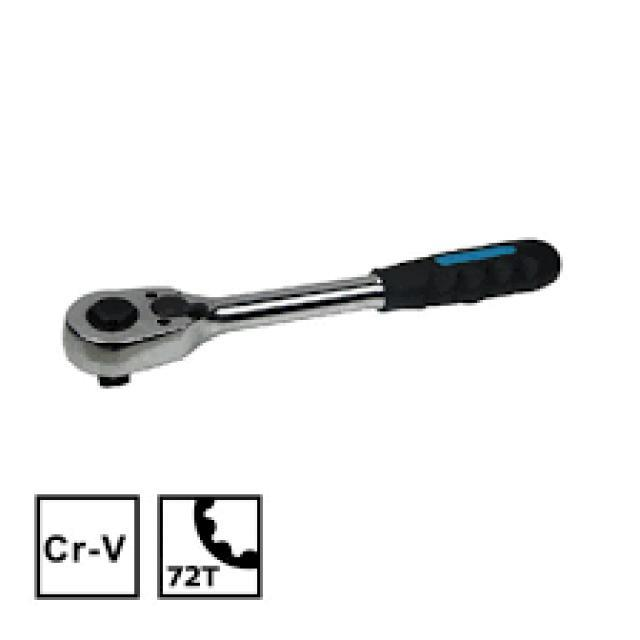wrench: (55, 232, 567, 392)
